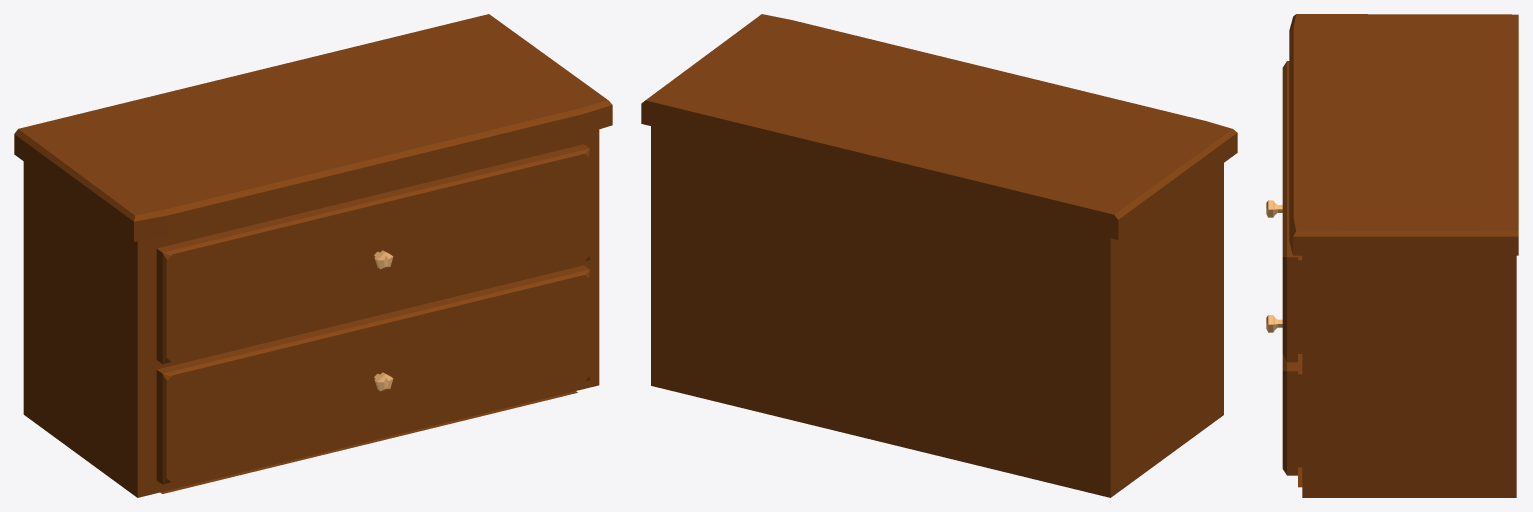
The model's file is dresser_003.FBX.
3 renders of one model, left to right at view 1: azimuth 30°, elevation 25°; view 2: azimuth 150°, elevation 25°; view 3: azimuth 270°, elevation 25°, orthographic. The views are drawn at different scales.
Visible parts, largest first — view 1: dresser_002; view 2: dresser_002; view 3: dresser_002.
Part boxes in pixels (x1=…): dresser_002: x1=14, y1=14, x2=612, y2=497; dresser_002: x1=641, y1=14, x2=1237, y2=497; dresser_002: x1=1282, y1=14, x2=1518, y2=497.
Bounding box in the file's own units: 1.18 × 0.6764 × 0.5736.
